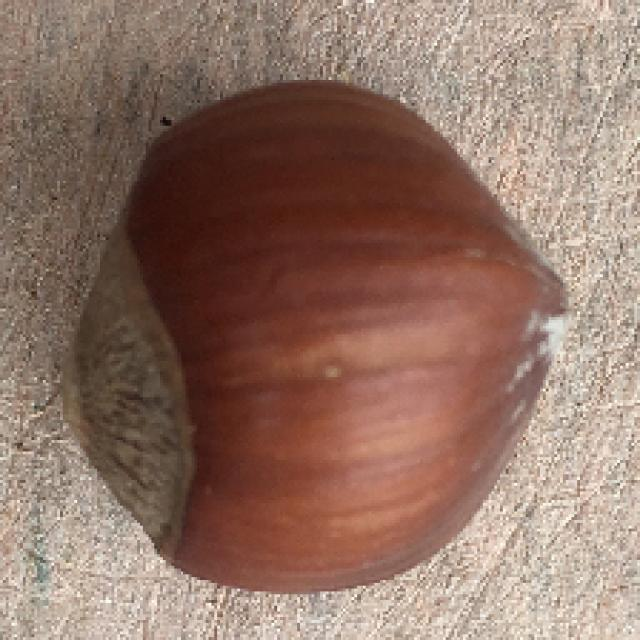qualityHazelnut: (58, 71, 582, 599)
